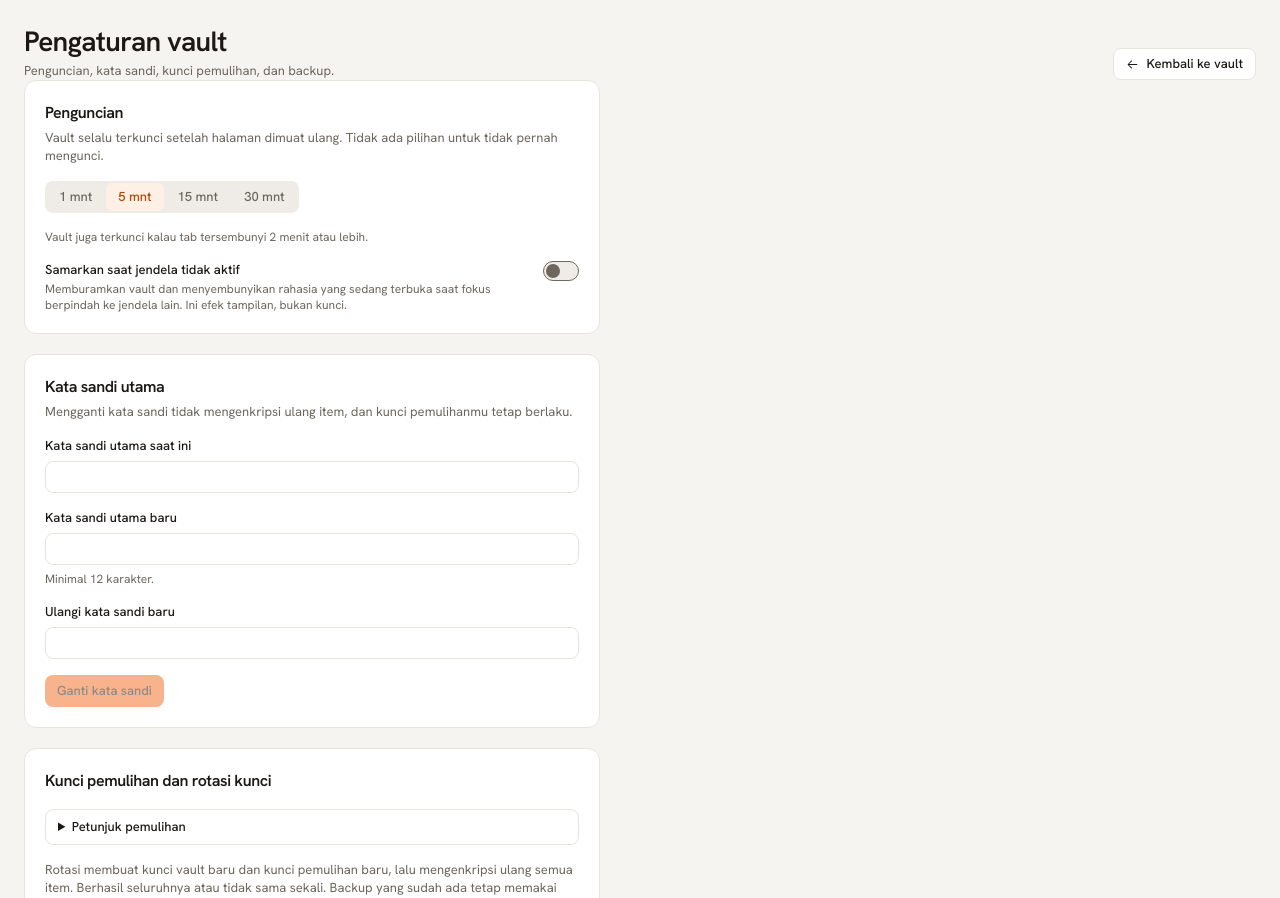
Test case: master password › will not submit a short or mismatched new password
In the password field labelled "Kata sandi utama saat ini": point(312, 477) [45, 461, 579, 493], type "a brand new passphrase!"
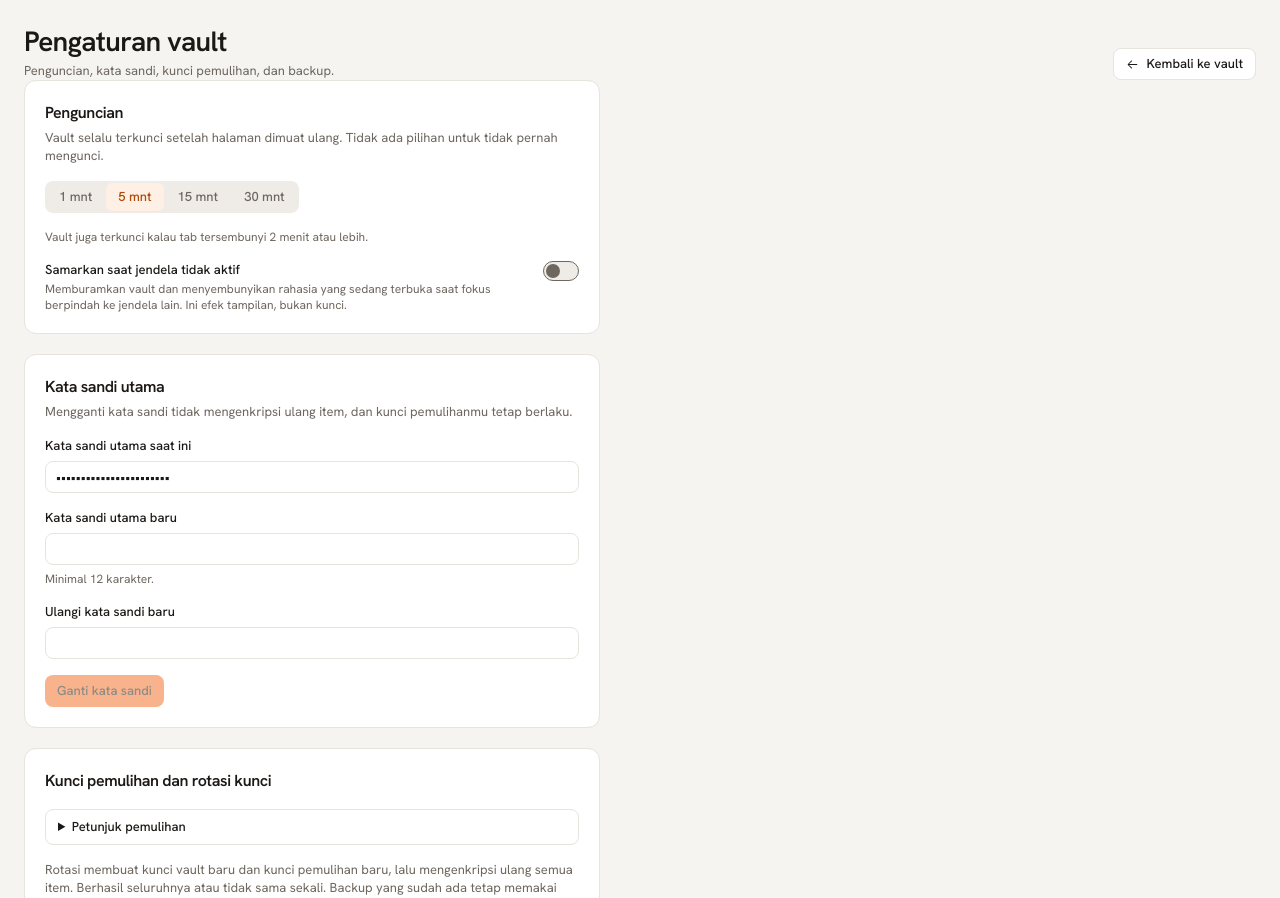
In the password field labelled "Kata sandi utama baru": point(312, 549) [45, 533, 579, 565], type "too short"
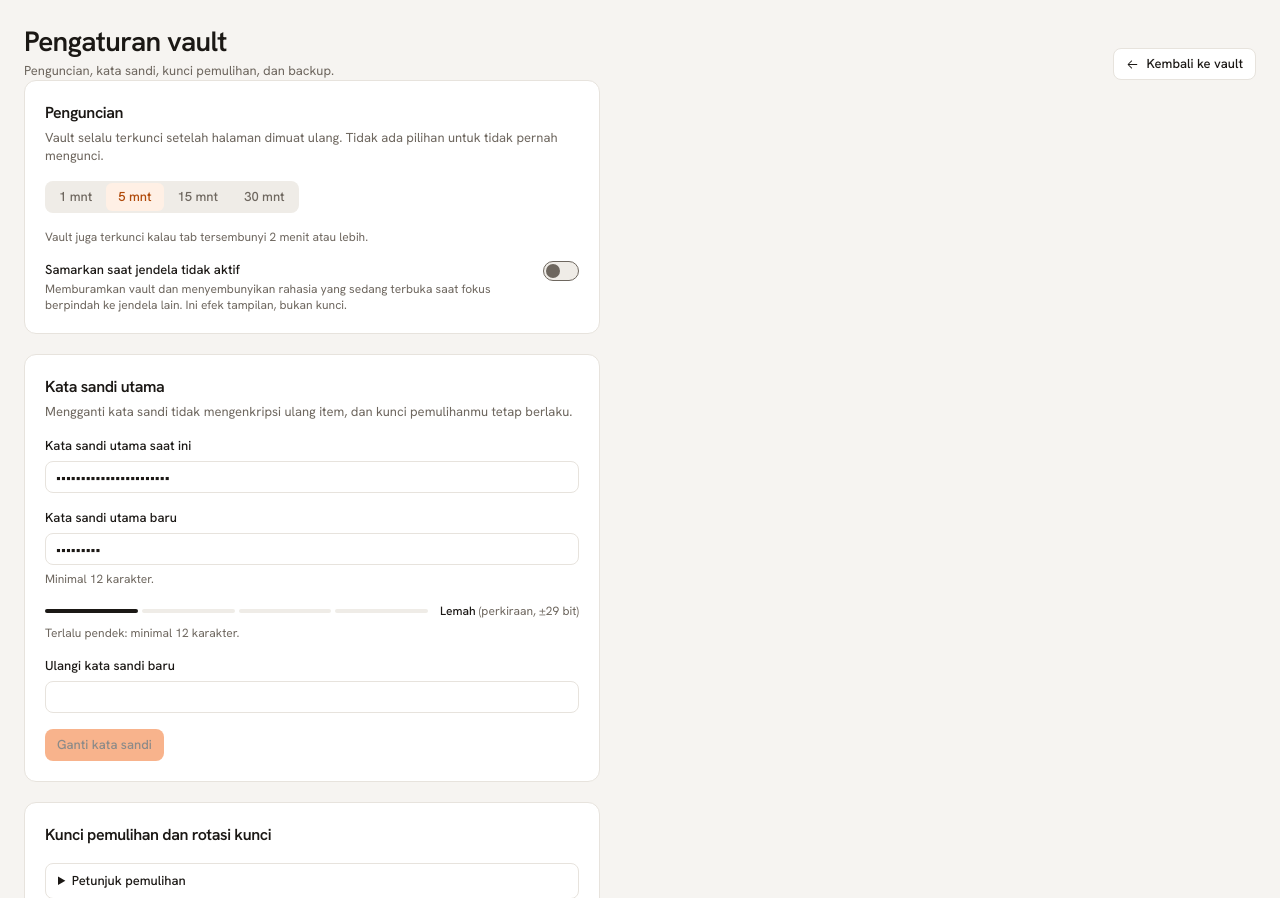
In the password field labelled "Ulangi kata sandi baru": point(312, 697) [45, 681, 579, 713], type "too short"
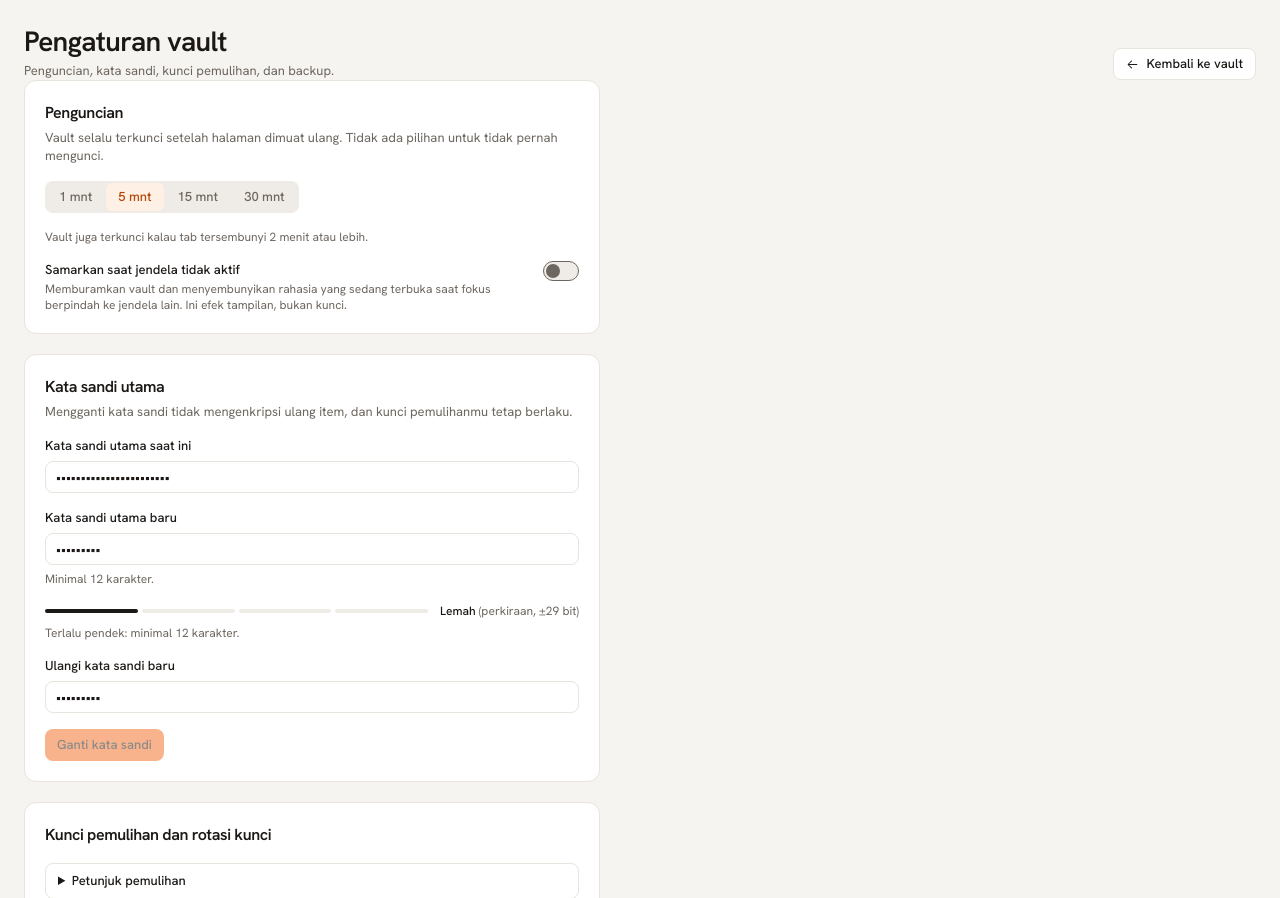
Expected: the button "Ganti kata sandi" is disabled, [45, 729, 164, 761]
In the password field labelled "Kata sandi utama baru": point(312, 549) [45, 533, 579, 565], type "a long enough passphrase"
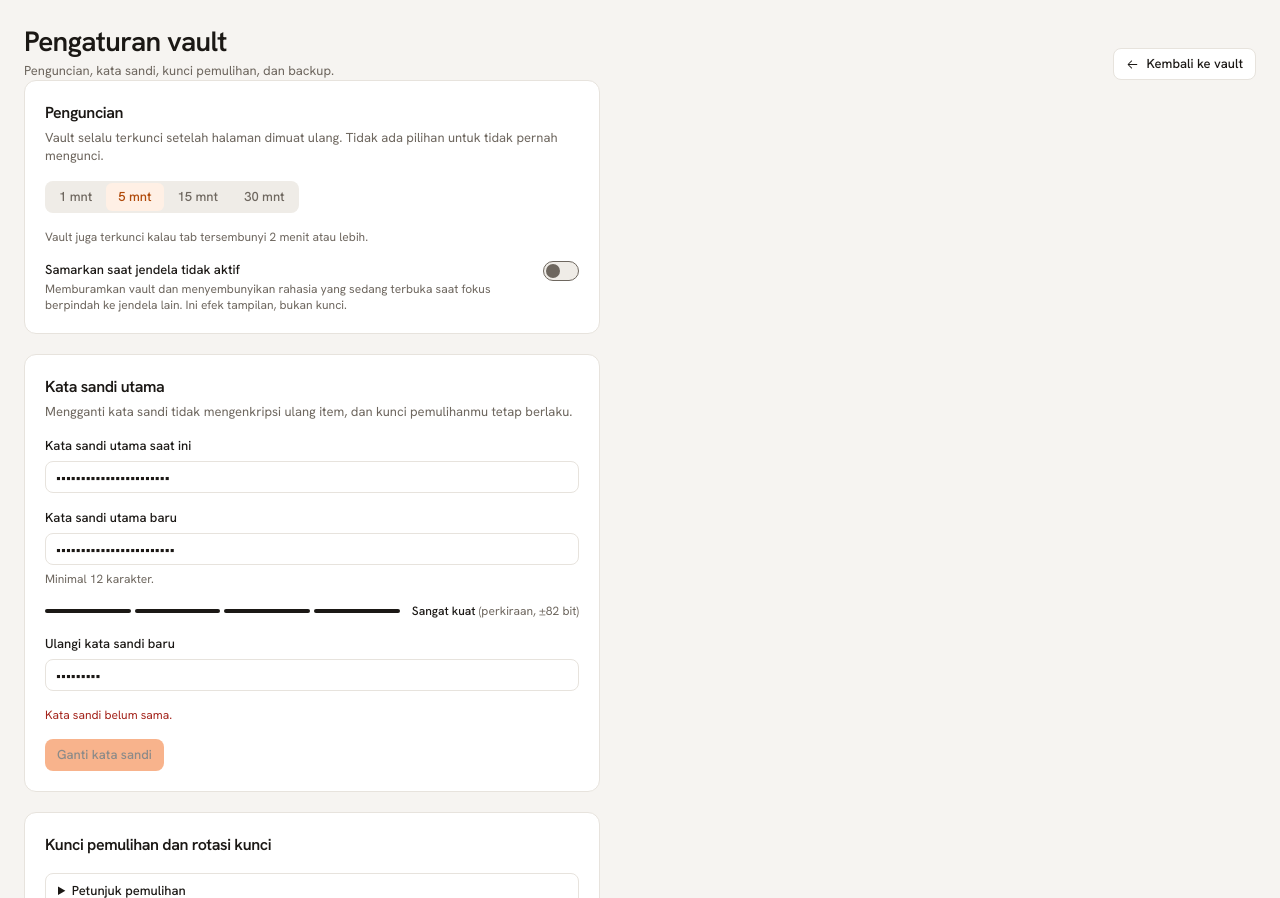
Result: the text "Kata sandi belum sama." is shown at [45, 707, 172, 723]
